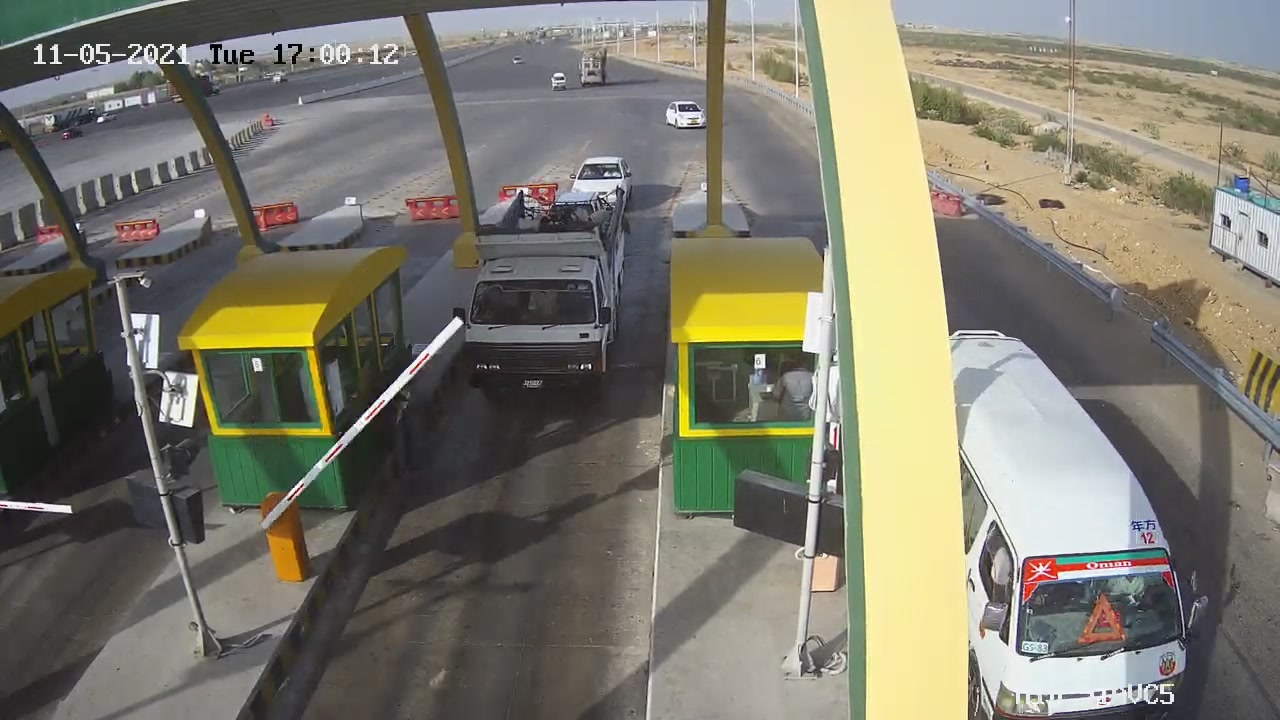F3: (434, 182, 651, 413)
